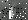person: (11, 5, 17, 19)
